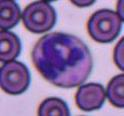N: (32, 33, 92, 86)
